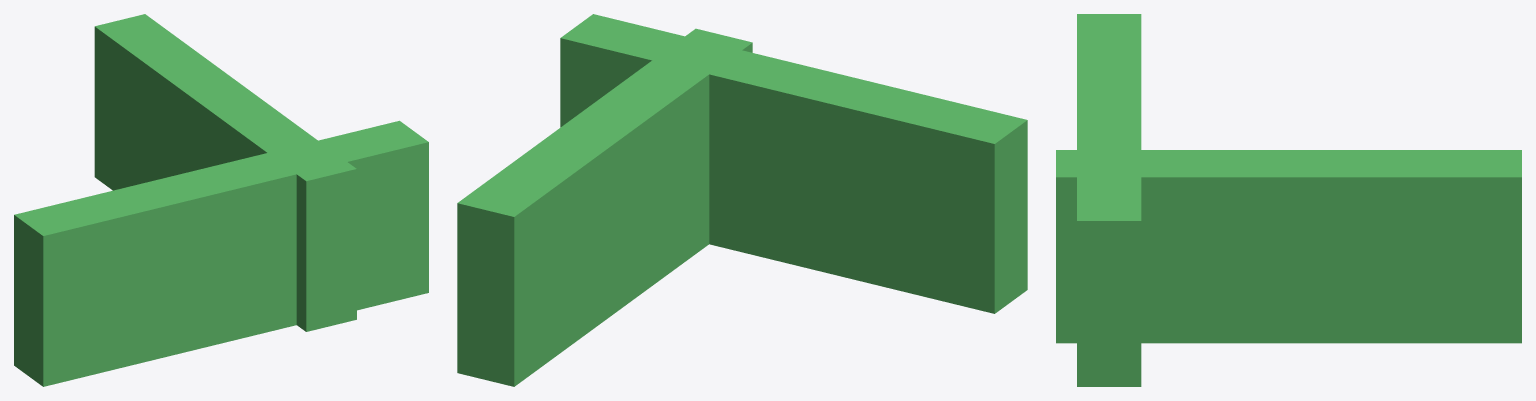
The model's file is shield_barricade_corner_collision.glb.
3 renders of one model, left to right at view 1: azimuth 30°, elevation 25°; view 2: azimuth 150°, elevation 25°; view 3: azimuth 270°, elevation 25°, orthographic. The views are drawn at different scales.
Visible parts, largest first — view 1: shield_barricade_corner-col-x, shield_barricade_corner-col-y; view 2: shield_barricade_corner-col-x, shield_barricade_corner-col-y; view 3: shield_barricade_corner-col-y, shield_barricade_corner-col-x.
Part boxes in pixels (x1,y1,x2,y2): shield_barricade_corner-col-x: [14, 120, 428, 386]; shield_barricade_corner-col-y: [94, 14, 356, 331]; shield_barricade_corner-col-x: [560, 14, 1027, 313]; shield_barricade_corner-col-y: [457, 28, 752, 386]; shield_barricade_corner-col-y: [1056, 150, 1521, 343]; shield_barricade_corner-col-x: [1077, 14, 1141, 386].
Size of the model in its own units: 3.05 by 1.14 by 2.9.
